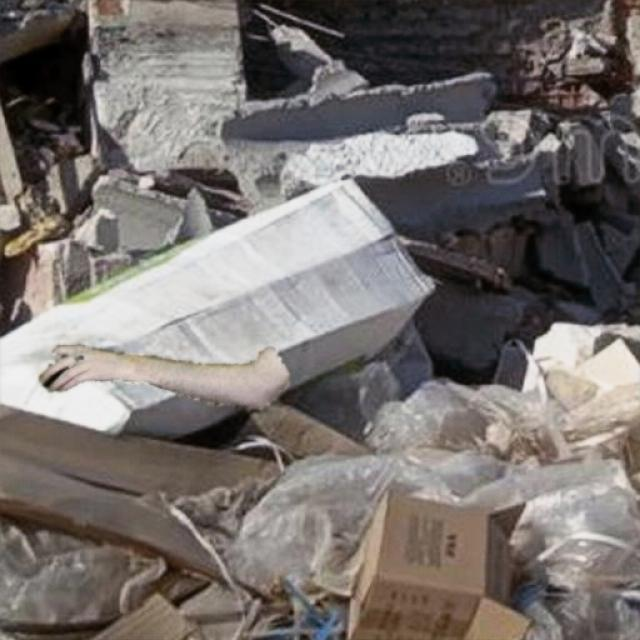Person in Rubble: (39, 344, 288, 412)
